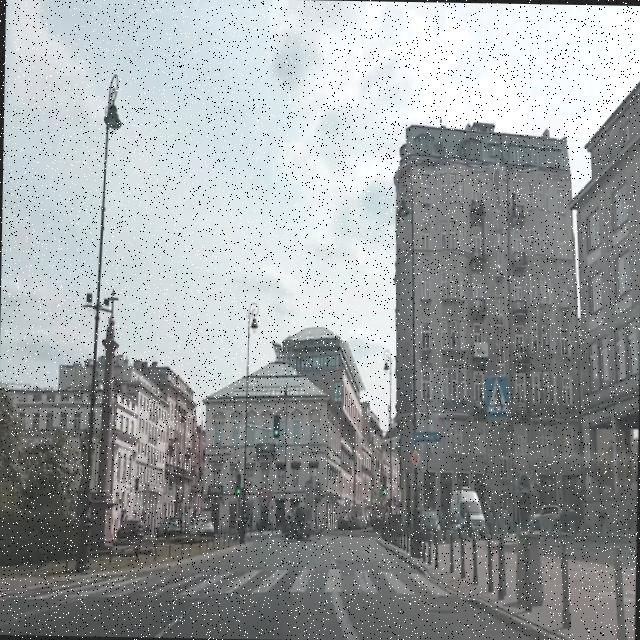Droga z pierwszenstwem: (408, 448, 421, 468)
Przejscie dla pieszych: (483, 375, 510, 418)
